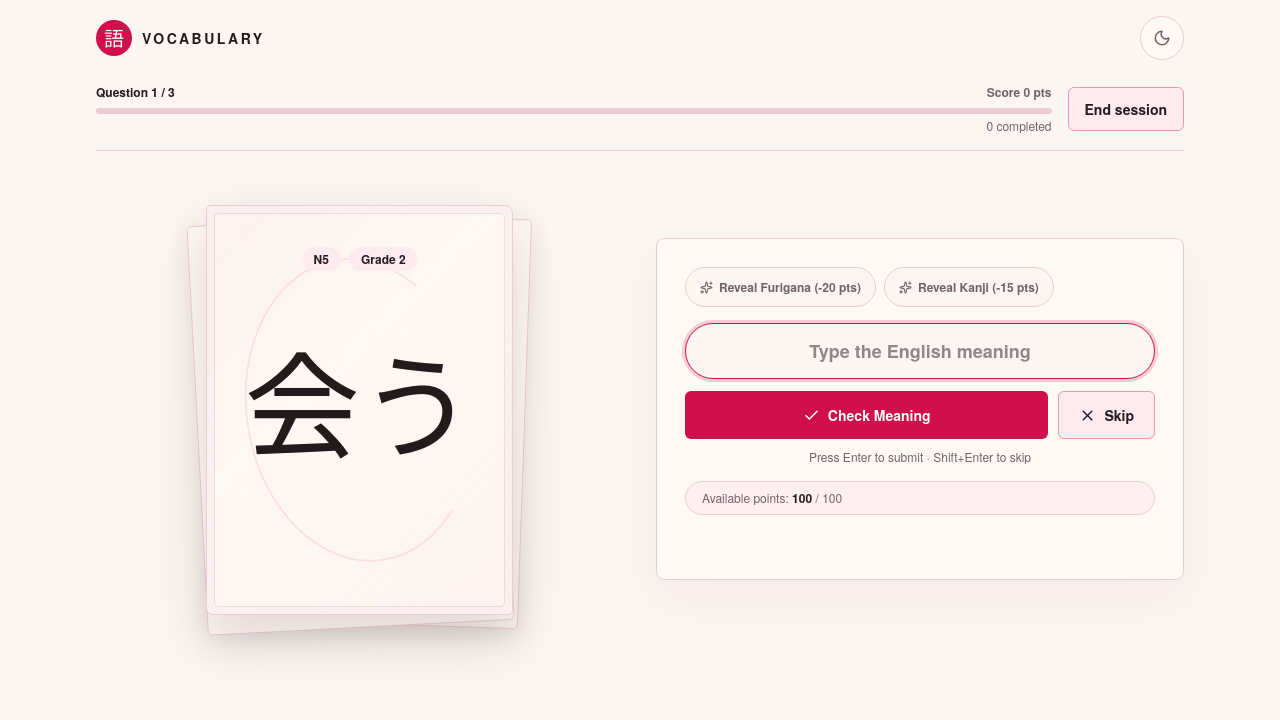
Test case: vocabulary question interaction › checks with Enter, advances after correct, and skips after a mistake on the next Enter
Expected: the text named "Japanese word 会う" is shown, [225,352,495,467]
Type "TO MEET!" into the field labelled "English meaning" at (920,352), box [685,324,1155,380]
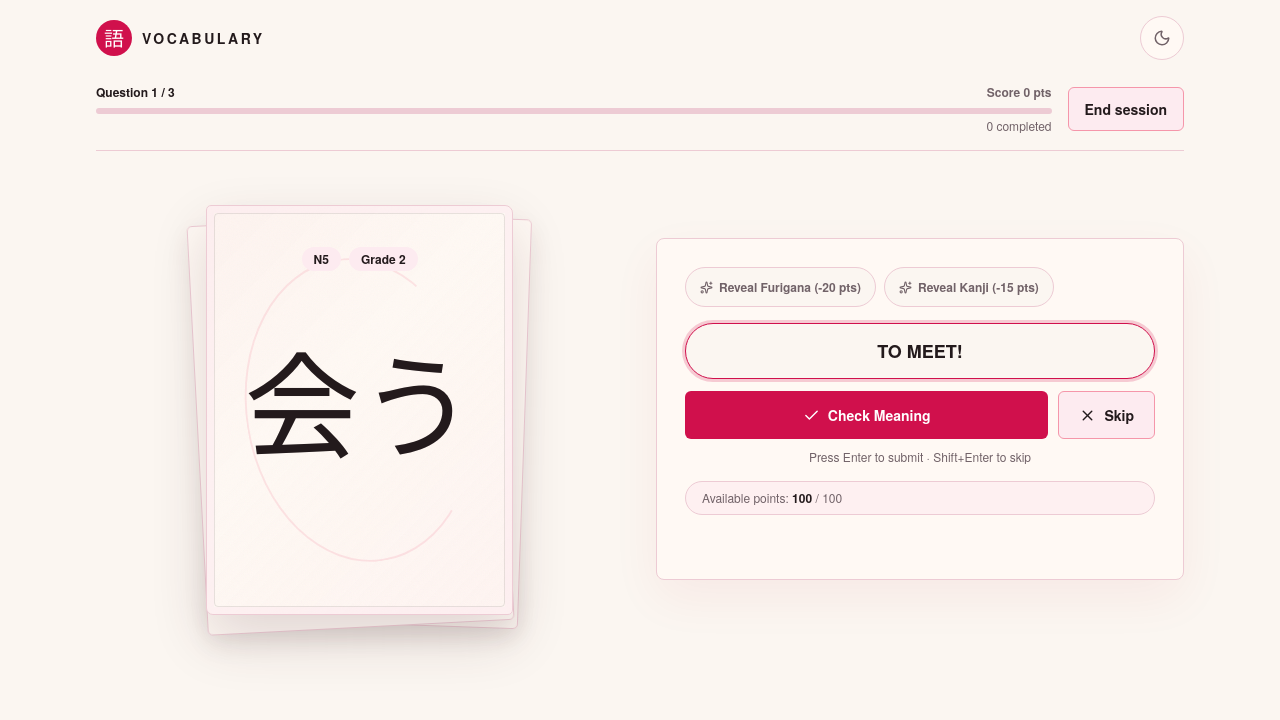
Press Enter
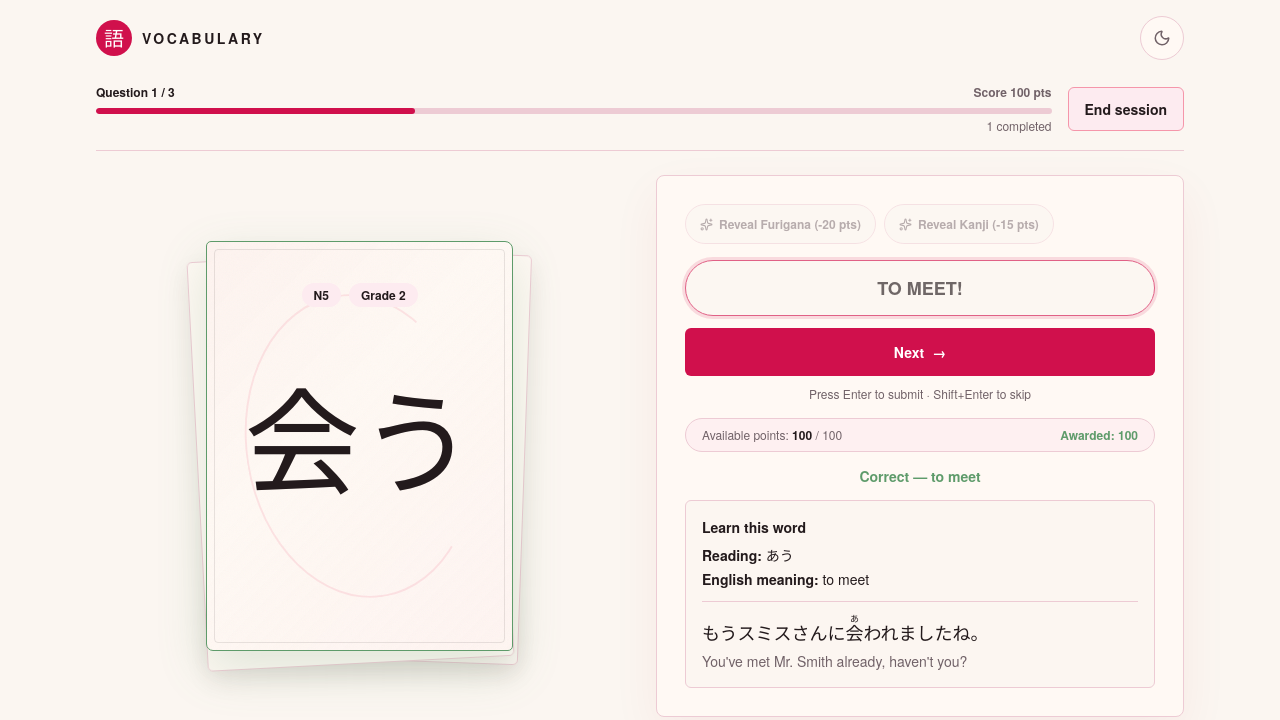
Expected: the text "Correct — to meet" is shown, [859,466,981,486]
Expected: the text "Awarded: 100" is shown, [1060,427,1138,443]
Press Enter
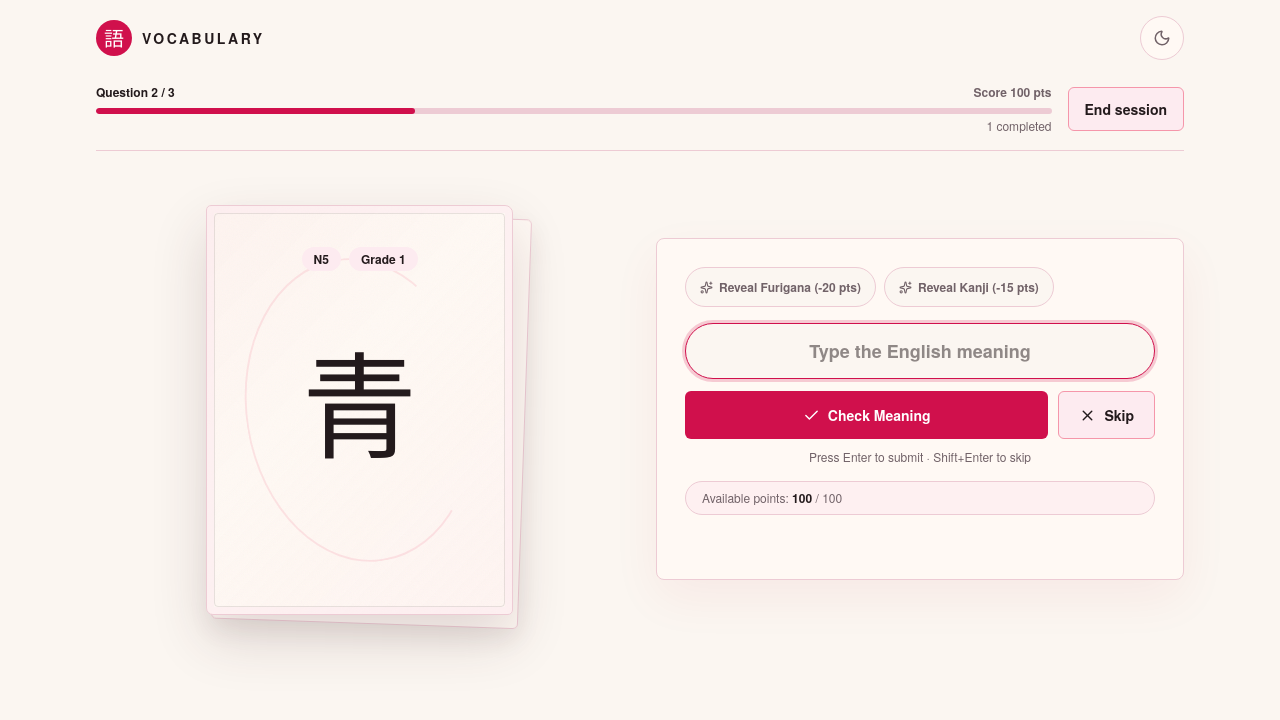
Expected: the text named "Japanese word 青" is shown, [302,345,418,473]
Type "unrelated" into the field labelled "English meaning" at (920,352), box [685,324,1155,380]
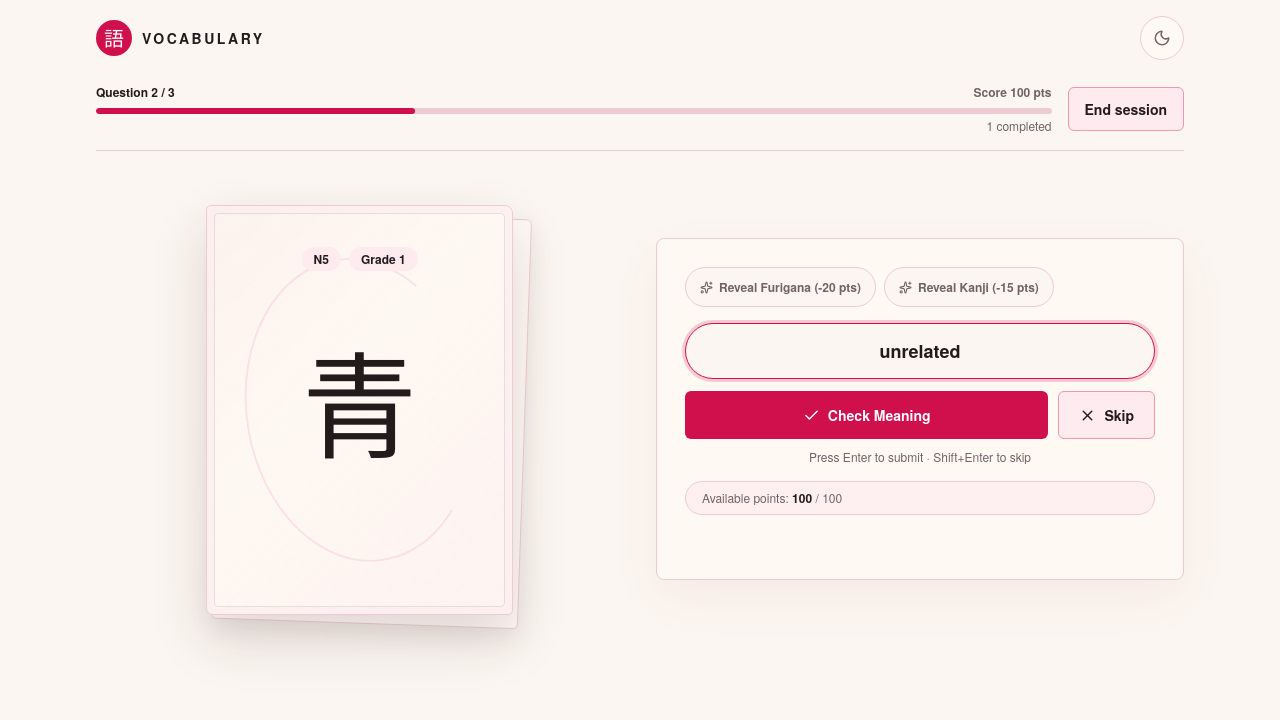
Press Enter
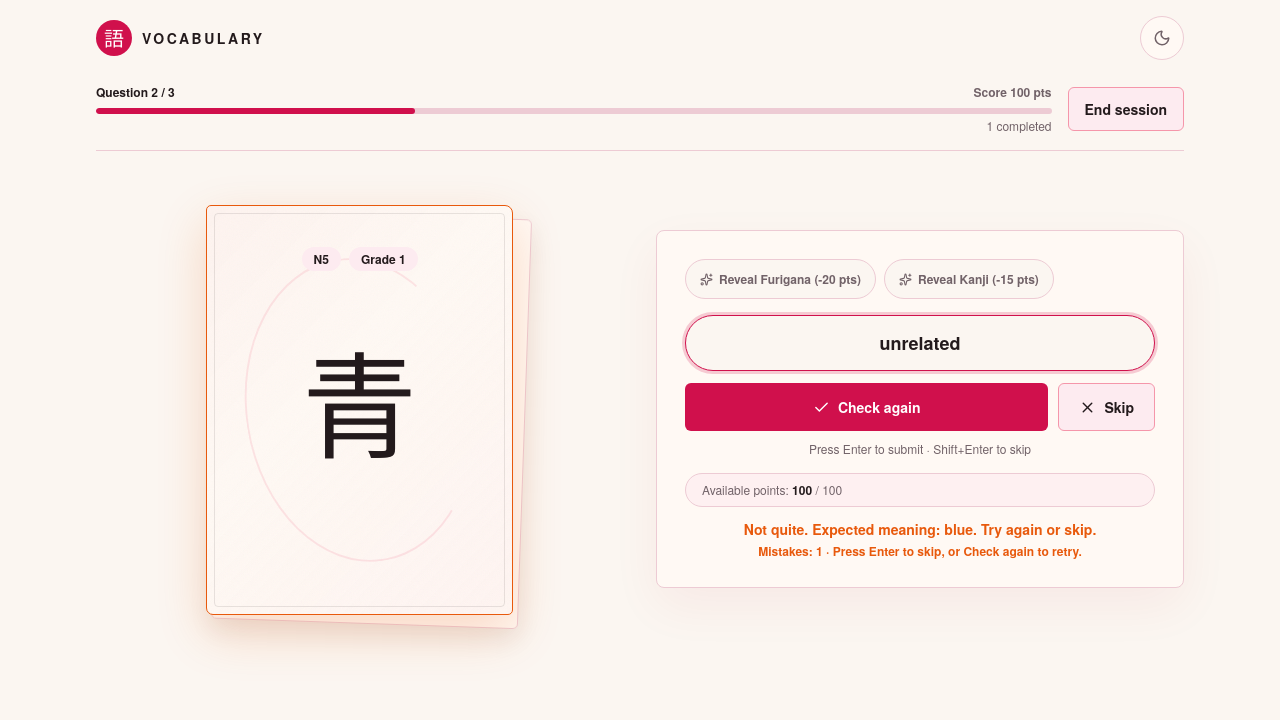
Expected: the text "Not quite. Expected meaning: blue. Try again or skip." is shown, [744,520,1096,540]
Expected: the text "Mistakes: 1 · Press Enter to skip, or Check again to retry." is shown, [758,544,1082,560]
Press Enter
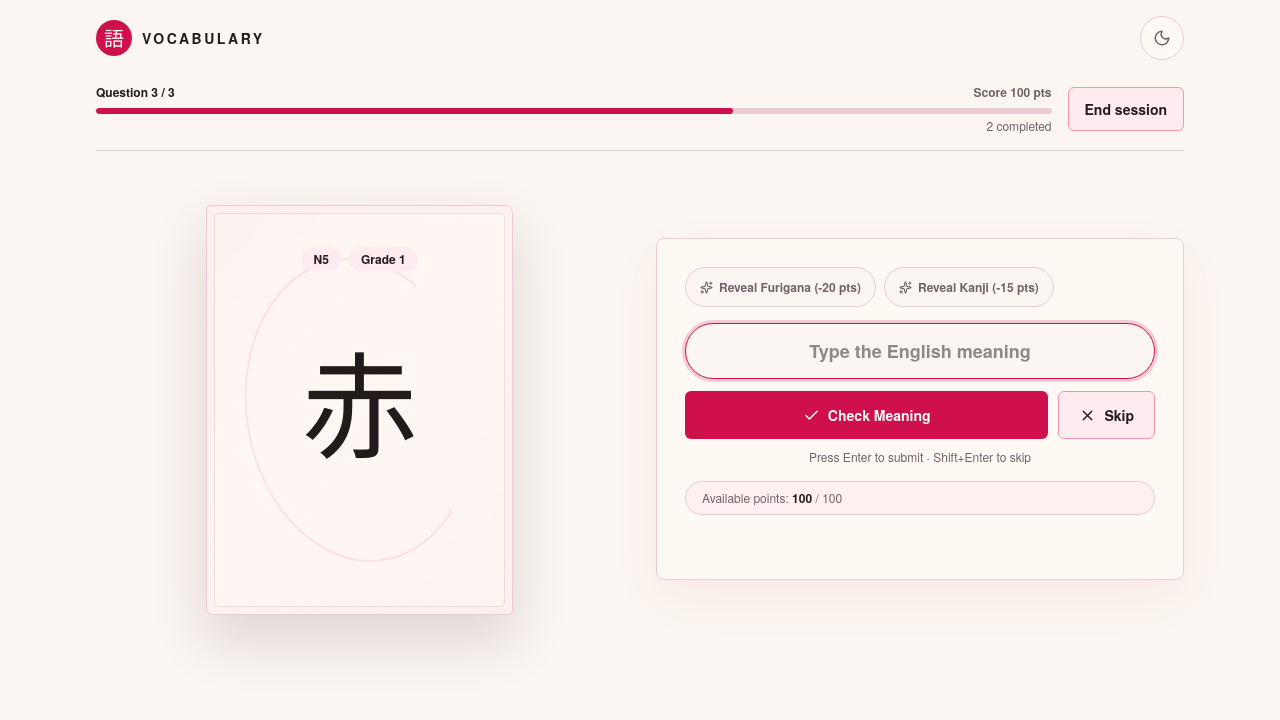
Expected: the text named "Japanese word 赤" is shown, [302,345,418,473]
